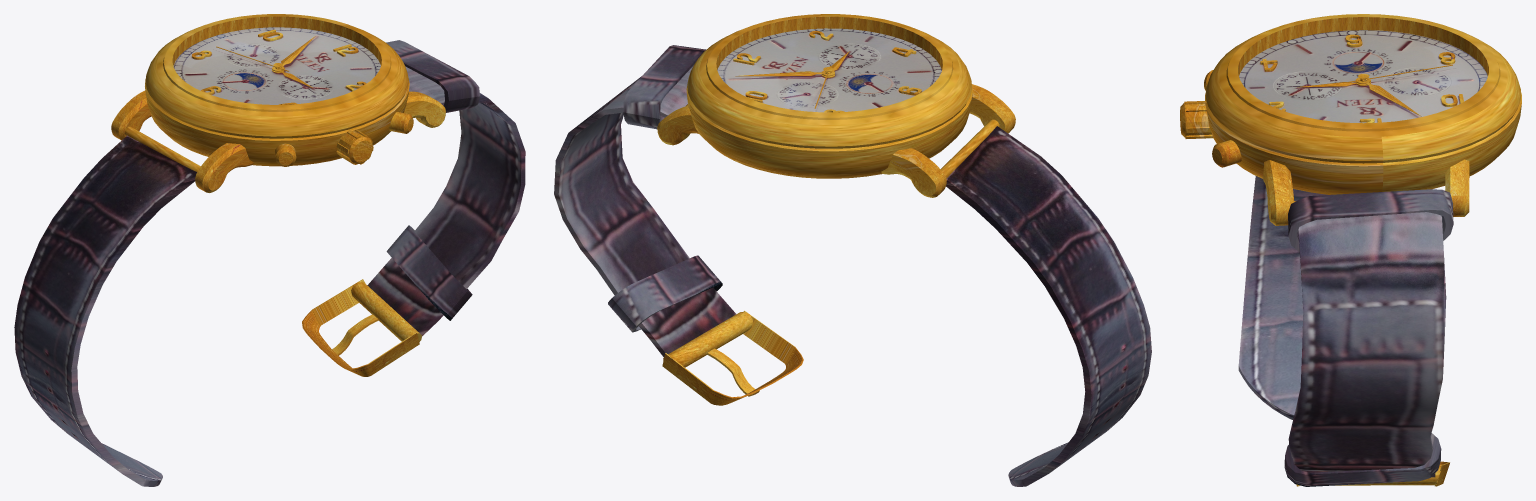
Rendered from watch.glb.
The picture shows the model from 3 angles, left to right: view 1: azimuth 30°, elevation 25°; view 2: azimuth 150°, elevation 25°; view 3: azimuth 270°, elevation 25°; orthographic projection. The views are drawn at different scales.
Parts seen in each view (by area): view 1: Object_2, Object_3; view 2: Object_2, Object_3; view 3: Object_2, Object_3.
Part boxes in pixels (left/top/right/bottom): Object_2: left=14, top=14, right=525, bottom=486; Object_3: left=124, top=27, right=472, bottom=369; Object_2: left=554, top=14, right=1151, bottom=486; Object_3: left=632, top=28, right=1004, bottom=398; Object_2: left=1180, top=14, right=1521, bottom=486; Object_3: left=1184, top=30, right=1487, bottom=474.
Bounding box in the file's own units: 0.1487 × 0.1092 × 0.0774.
Materials: 1 (1 with a texture image).
